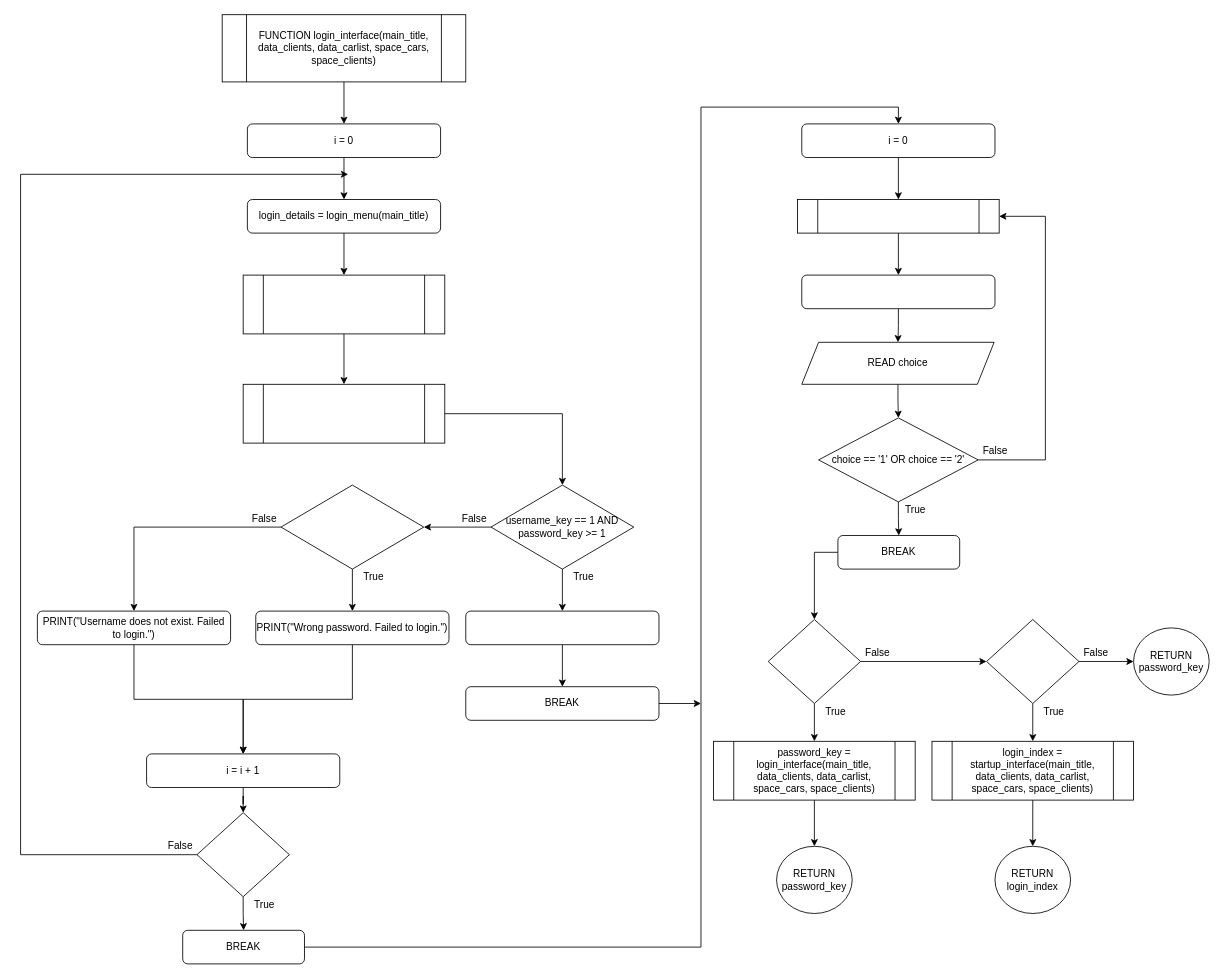
The diagram is 1224 pixels wide and 979 high, and some of its shapes have lost their labels. Here are the shapes that lost their labels. From the top down, the centre of each, then its label:
the point at 898,216: general_menu(menu)
the point at 343,304: username_key = check_usernameID(data_clients, login_details[0])
the point at 898,291: PRINT("Please Select: ")
the point at 343,413: password_key = check_password(data_clients, login_details[0], login_details[1])
the point at 352,526: username_key == 1 AND password_key == 0
the point at 562,627: PRINT("You have successfully login!")
the point at 814,661: choice == '1'
the point at 1032,661: choice == '2'
the point at 242,854: i > 4
